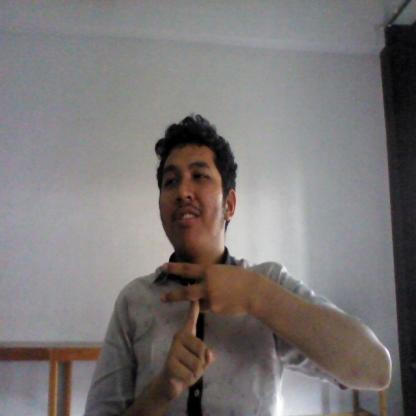F: (156, 260, 245, 394)
